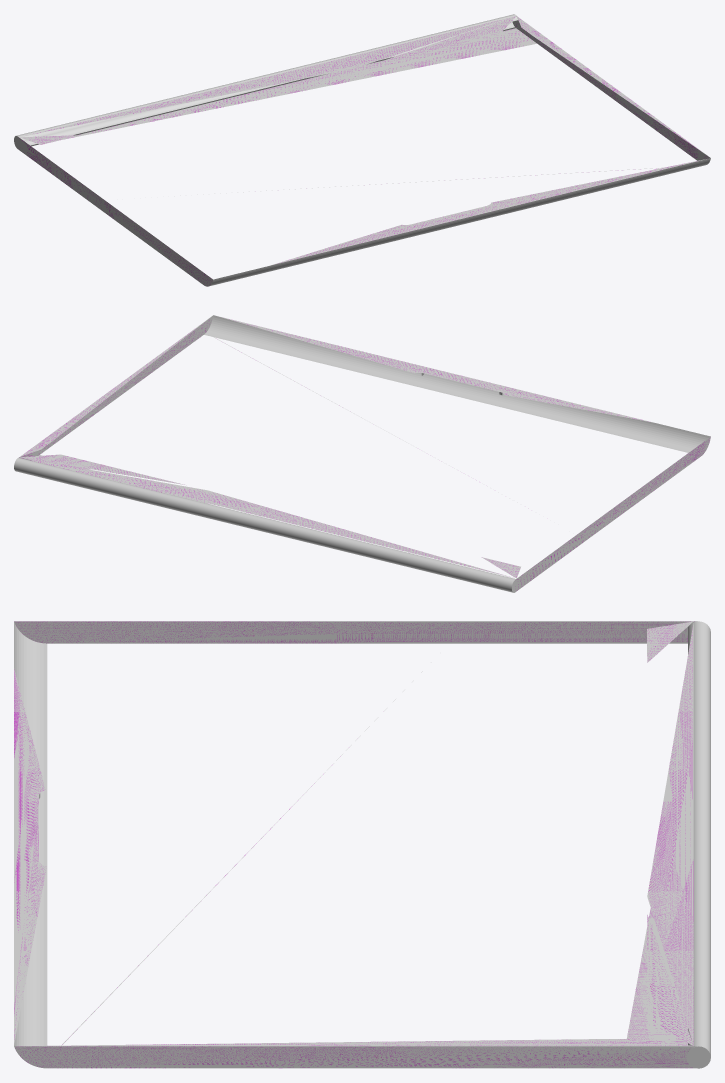
3 views of the same model, one above another, from view 1: azimuth 30°, elevation 25°; view 2: azimuth 150°, elevation 25°; view 3: azimuth 270°, elevation 25° (orthographic). The views are drawn at different scales.
Size of the model in its own units: 1.32 by 0.032 by 0.9115.
Materials: 2 (1 with a texture image).
